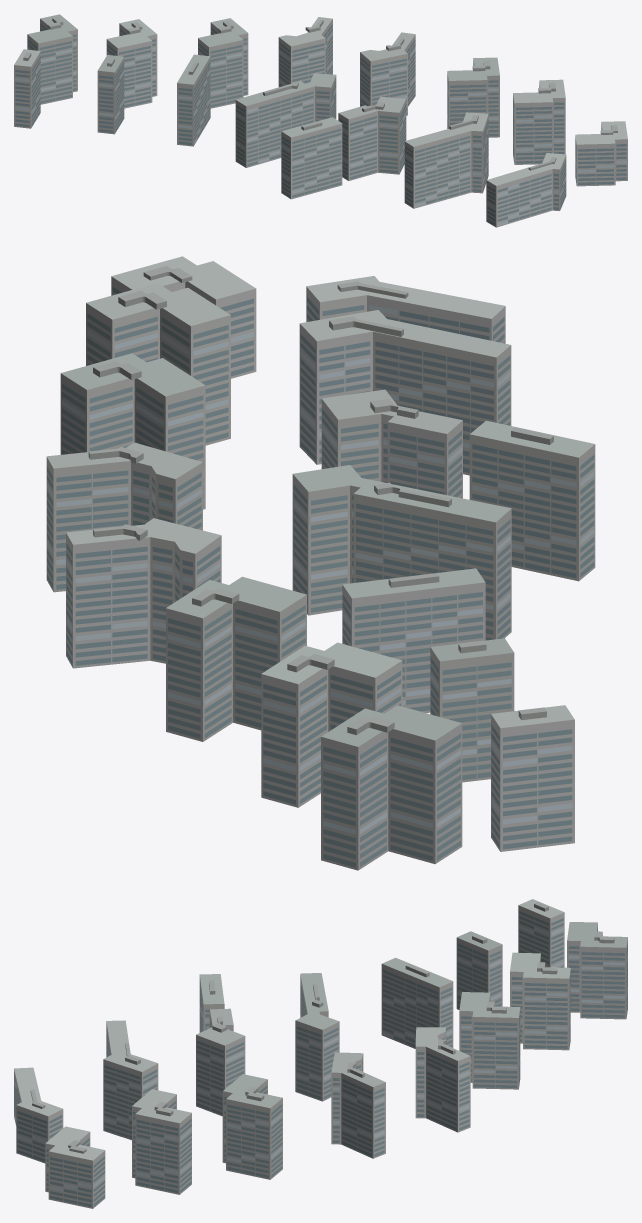
Rendered from apt-a13519006.glb.
The picture shows the model from 3 angles, top to bottom: view 1: azimuth 30°, elevation 25°; view 2: azimuth 150°, elevation 25°; view 3: azimuth 270°, elevation 25°; orthographic projection. The views are drawn at different scales.
Visible parts, largest first — view 1: apt-a13519006; view 2: apt-a13519006; view 3: apt-a13519006.
Part boxes in pixels (x1,y1,x2,y2): apt-a13519006: (14,14,627,227); apt-a13519006: (46,256,595,870); apt-a13519006: (14,899,627,1208).
Size of the model in its own units: 293 by 43 by 319.
